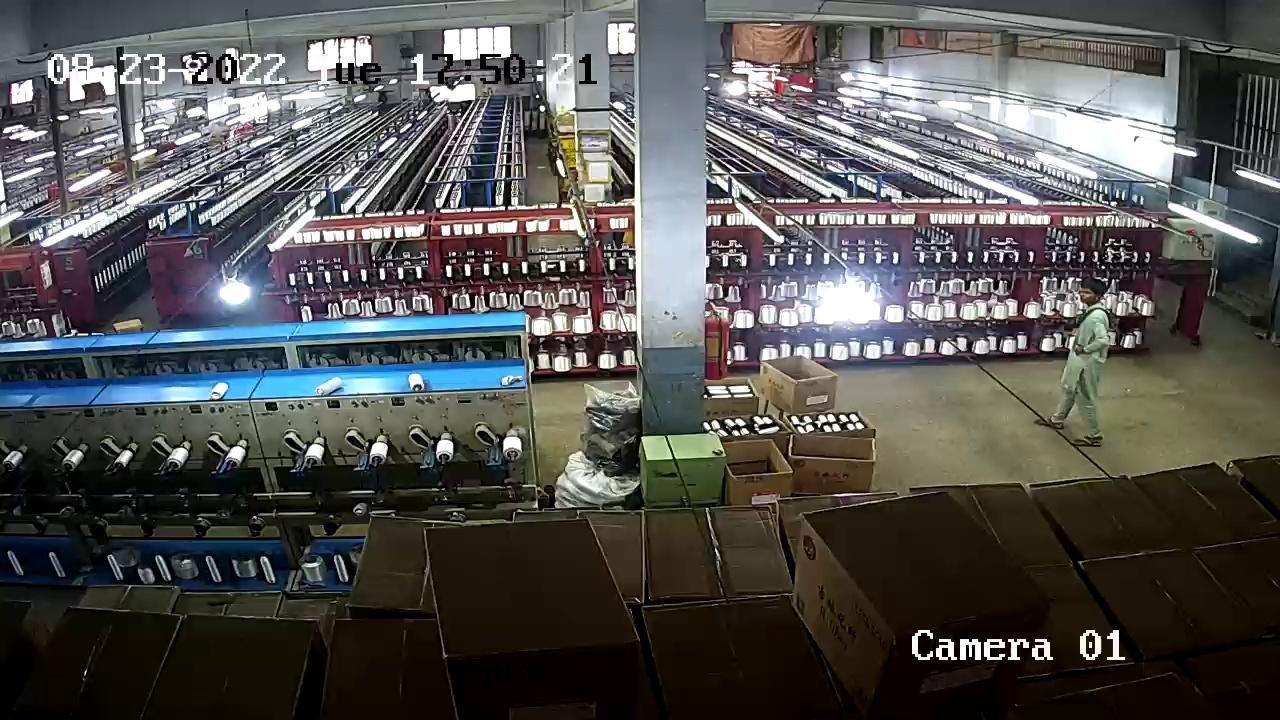person: (1061, 280, 1113, 448)
